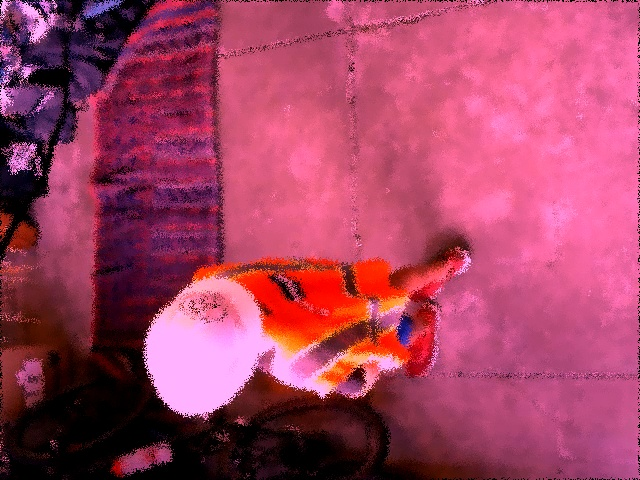eight: (181, 290, 227, 322)
